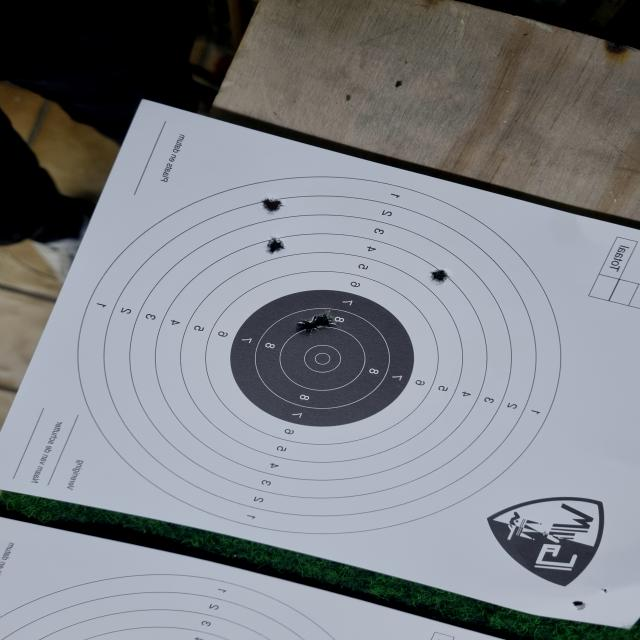2: (262, 198, 286, 212)
4: (266, 237, 286, 254), (431, 269, 451, 283)
9: (297, 318, 319, 336), (314, 313, 337, 329)
Target: (76, 176, 563, 534)
black_contour: (231, 289, 416, 427)
